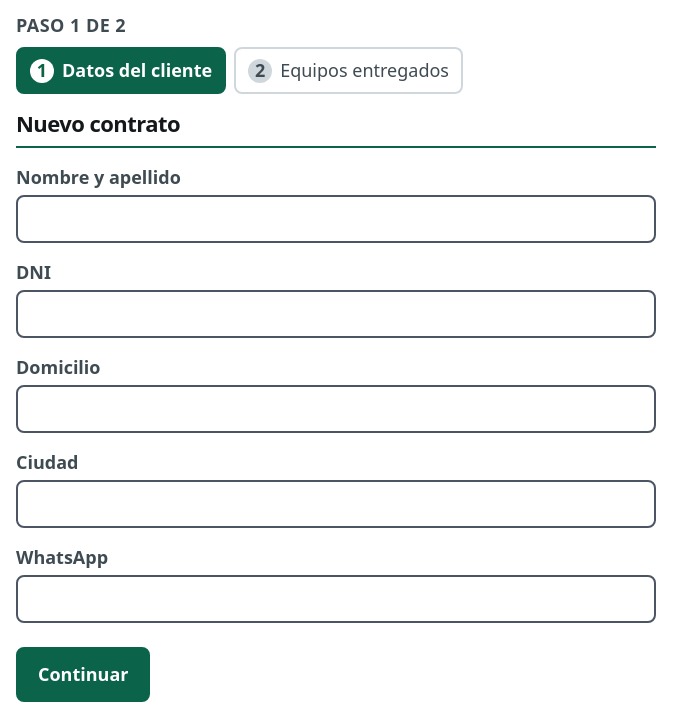
it: FormularioBorrador › advances to the equipos step once the comodatario data is valid
The image size is (673, 719).
Type "Ana López" into the field labelled "Nombre y apellido" at (336, 218), box [16, 194, 656, 242]
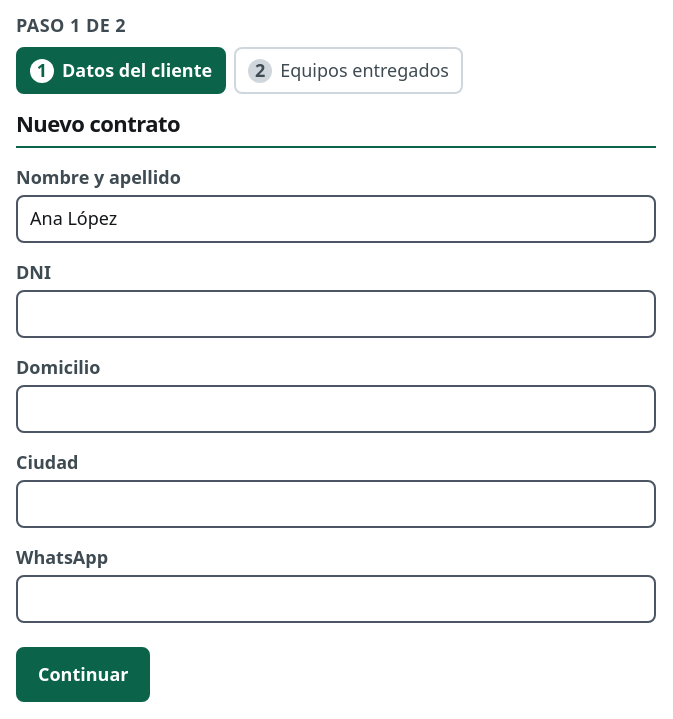
Type "30123456" into the field labelled "DNI" at (336, 314), box [16, 290, 656, 338]
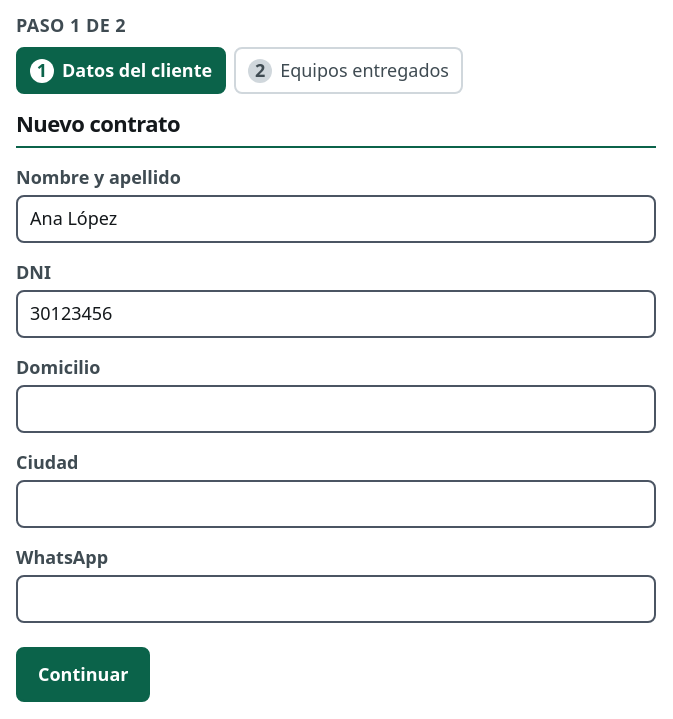
Type "San Martín 123" into the field labelled "Domicilio" at (336, 408), box [16, 384, 656, 432]
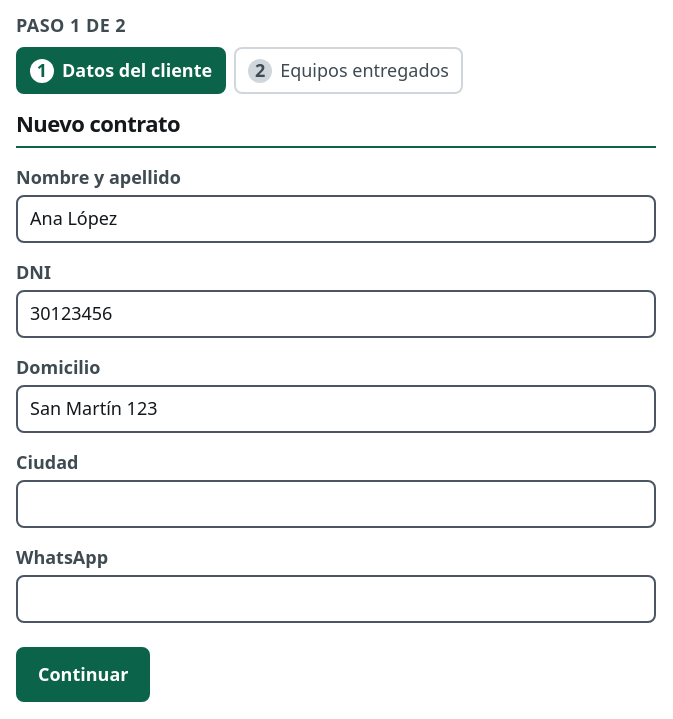
Type "Santiago del Estero" into the field labelled "Ciudad" at (336, 504), box [16, 480, 656, 528]
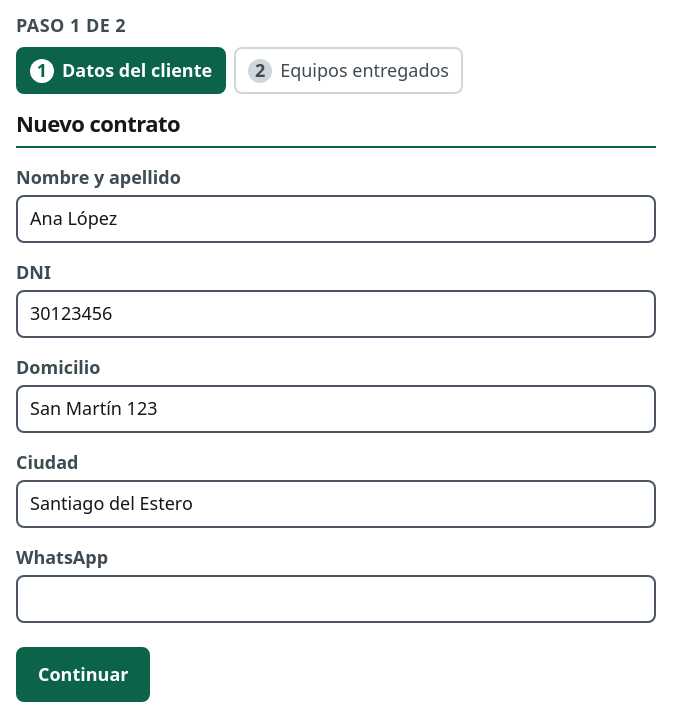
Type "385 4123456" into the field labelled "WhatsApp" at (336, 598), box [16, 574, 656, 622]
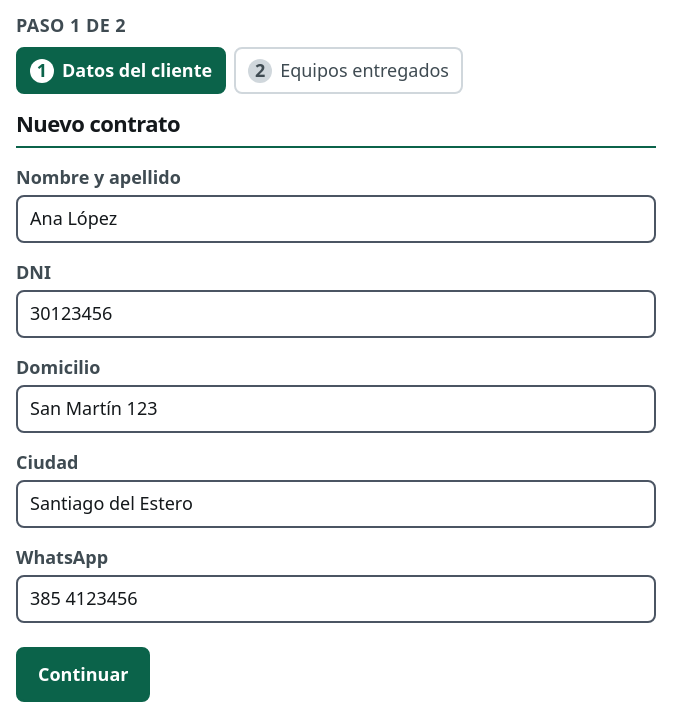
Click the button "Continuar" at (83, 674), box [16, 646, 150, 702]
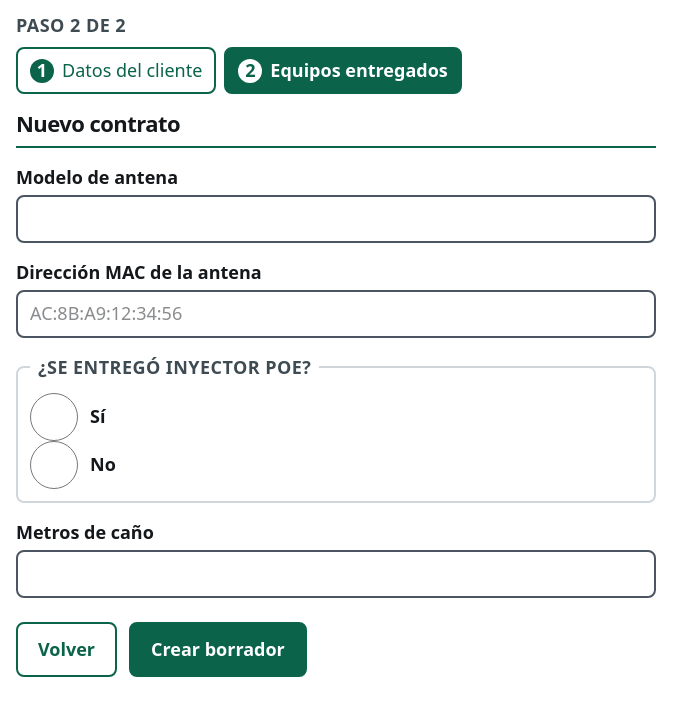
Now the field labelled "Modelo de antena" is shown, box [16, 194, 656, 242]
Now the label labelled "Nombre y apellido" is gone
